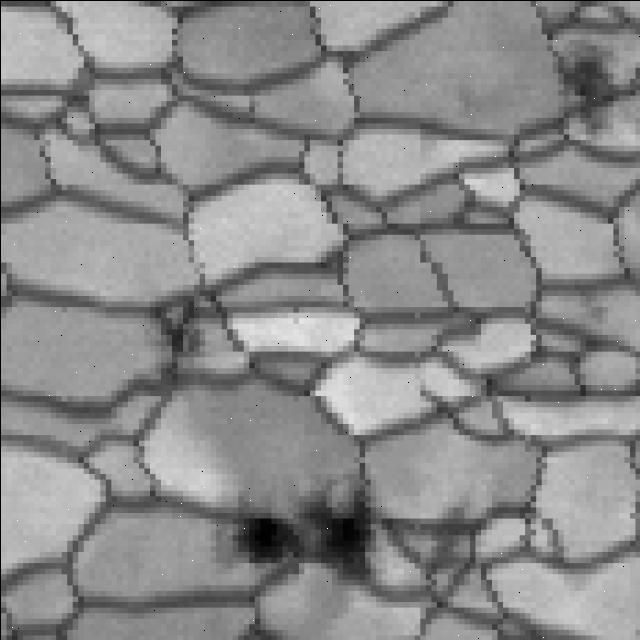good_void: (175, 474, 404, 599), (533, 36, 626, 141)
